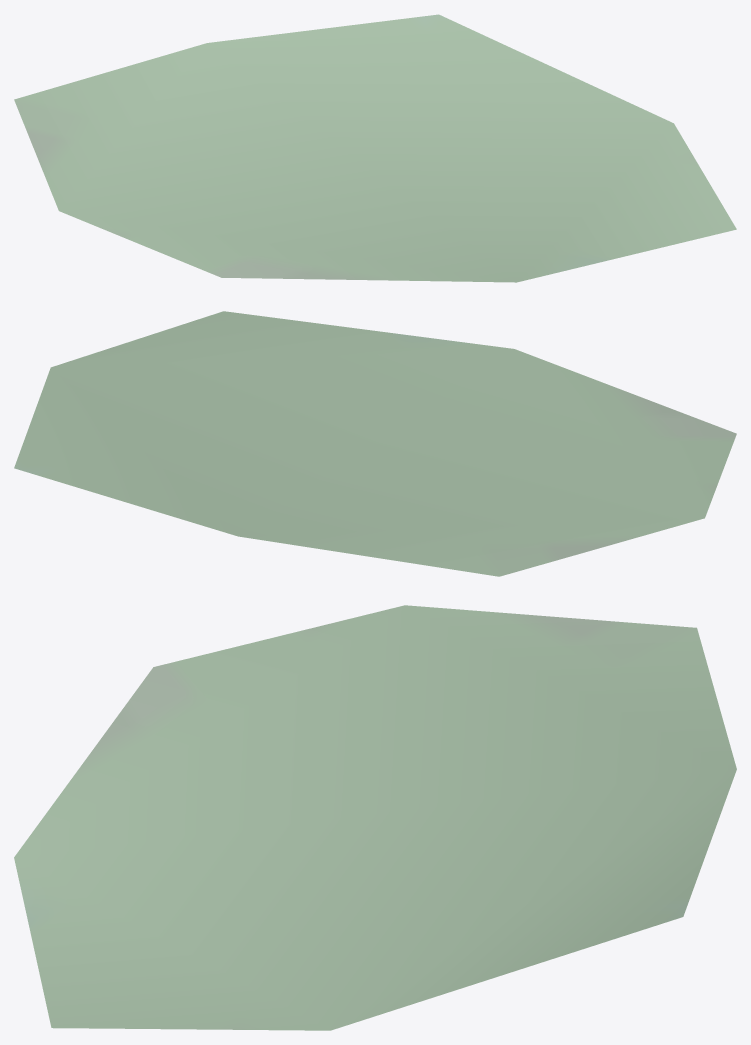
The model's file is TROLLHOLE02_HOLECAP199.fbx.
3 views of the same model, one above another, from view 1: azimuth 30°, elevation 25°; view 2: azimuth 150°, elevation 25°; view 3: azimuth 270°, elevation 25° (orthographic). The views are drawn at different scales.
Visible parts, largest first — view 1: TROLLHOLE02_HOLECAP199; view 2: TROLLHOLE02_HOLECAP199; view 3: TROLLHOLE02_HOLECAP199.
Boxes of the visible parts, left/top/right/bottom form: TROLLHOLE02_HOLECAP199: left=14, top=14, right=736, bottom=282; TROLLHOLE02_HOLECAP199: left=14, top=311, right=736, bottom=576; TROLLHOLE02_HOLECAP199: left=14, top=605, right=736, bottom=1030.
Size of the model in its own units: 16194 by 1805 by 13047.
1 material, 1 textured.
